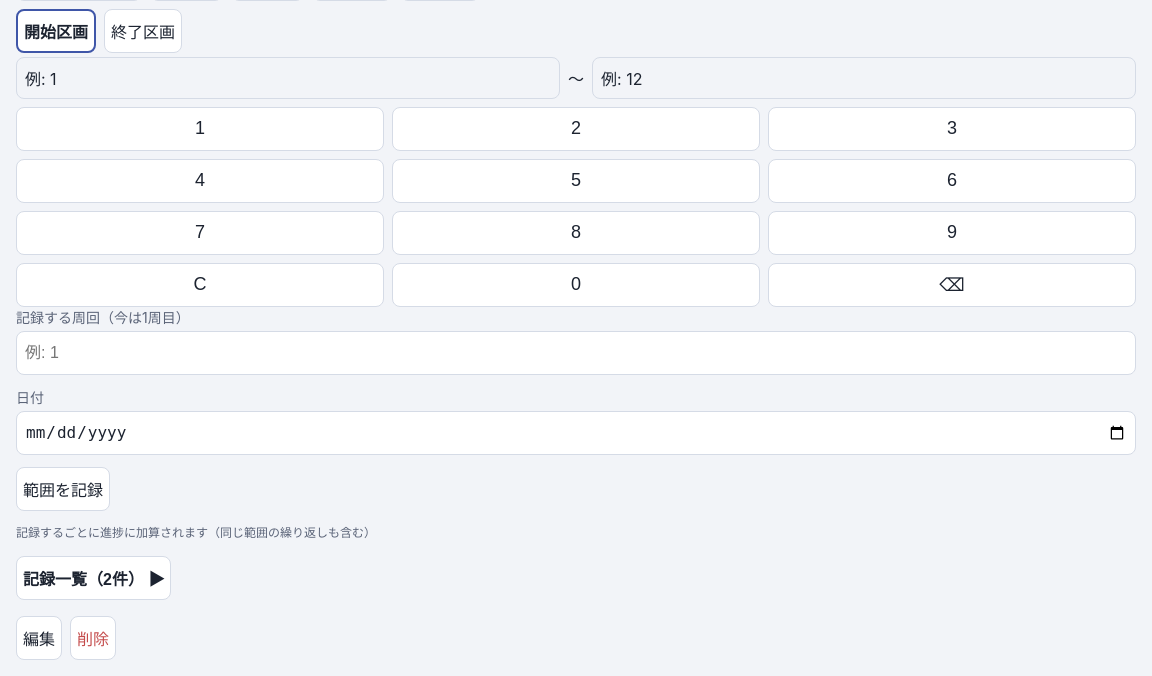
Test: BookDetailScreen › 同じ日付内は新しい記録が上に来る
(page scrolled)
Click the button with test id "cycle-list-toggle" at [94, 578], box x1=16 y1=556 x2=171 y2=600
(page scrolled)
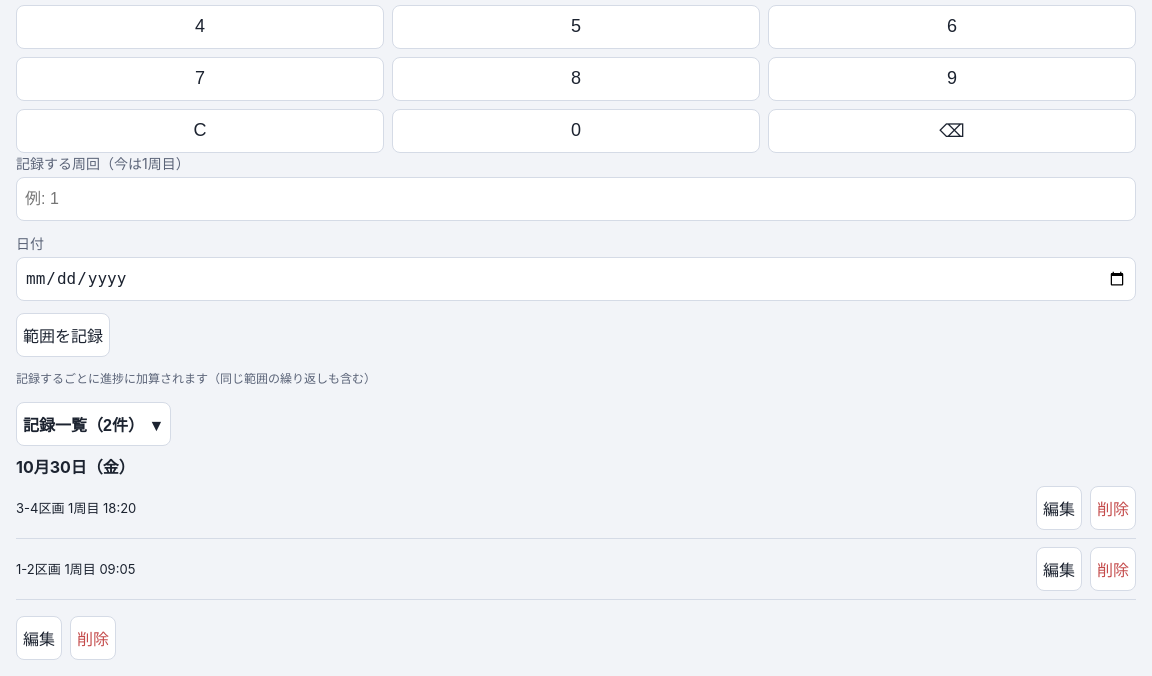
Result: the element with test id "cycle-row-c1" is shown at x1=16 y1=539 x2=1136 y2=600
